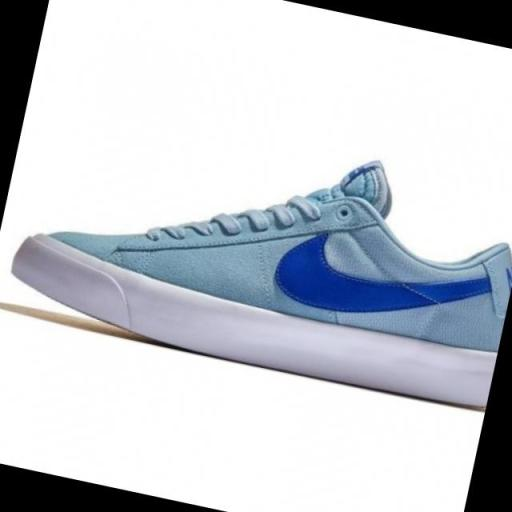Nike: (264, 218, 498, 341)
